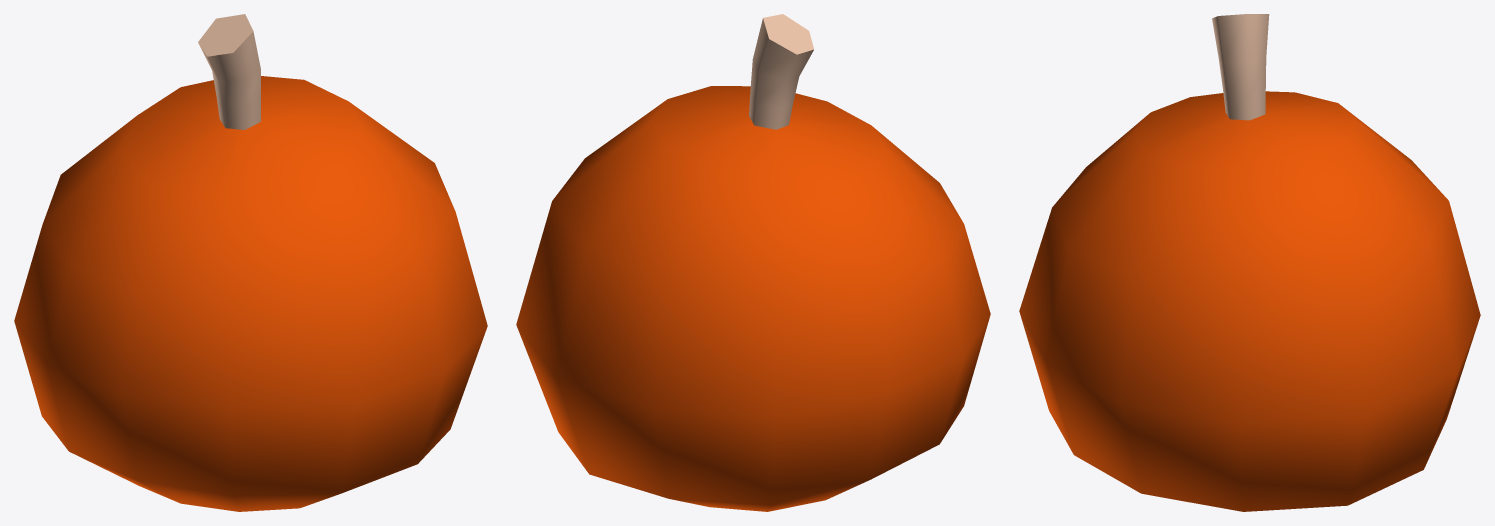
The model's file is Orange.fbx.
3 renders of one model, left to right at view 1: azimuth 30°, elevation 25°; view 2: azimuth 150°, elevation 25°; view 3: azimuth 270°, elevation 25°, orthographic.
Visible parts, largest first — view 1: Orange; view 2: Orange; view 3: Orange.
Part boxes in pixels (<box>): Orange: <box>14,14,487,511</box>; Orange: <box>516,14,990,511</box>; Orange: <box>1019,14,1480,511</box>.
Bounding box in the file's own units: 206 × 216 × 201.
